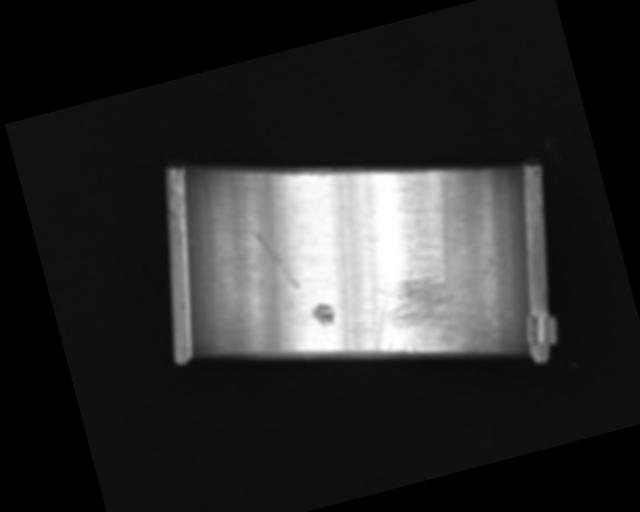bruise: (308, 300, 337, 328)
nick: (313, 172, 364, 295), (250, 221, 300, 297)
scratch: (357, 253, 492, 381)
